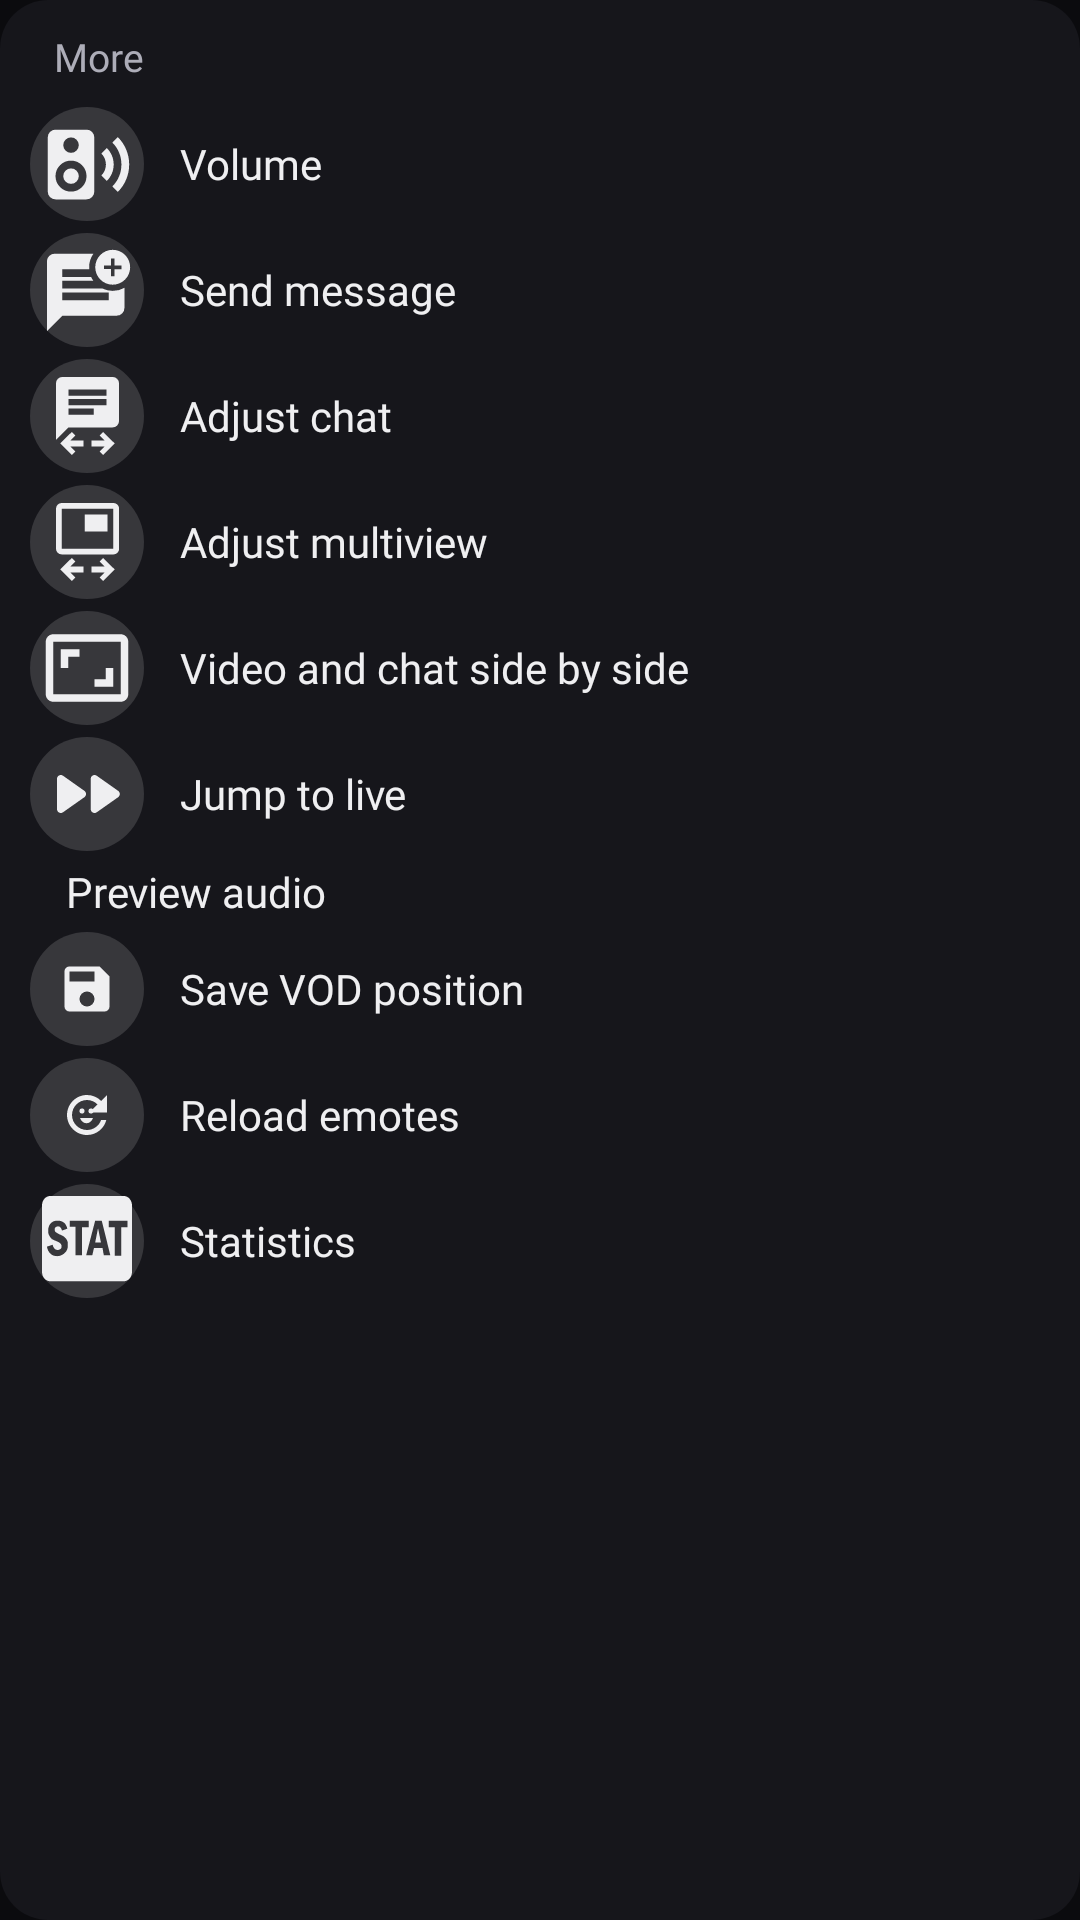

Icons on this 1080w x 1920h Android screen, each with the point to tap as (x=x, y=y):
Save current stream's position as a VOD resume point: (x=87, y=989)
